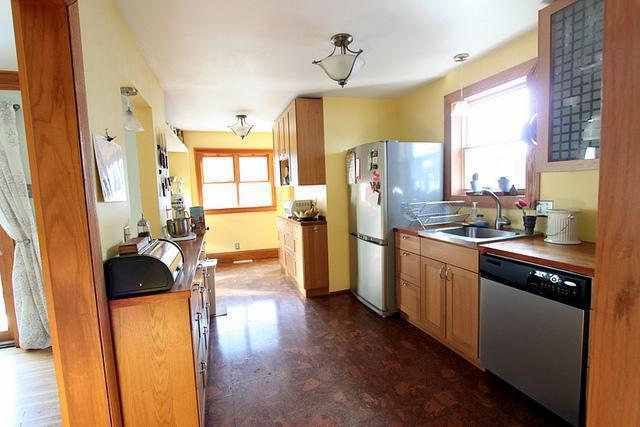Lavaplatos: (423, 187, 522, 245)
